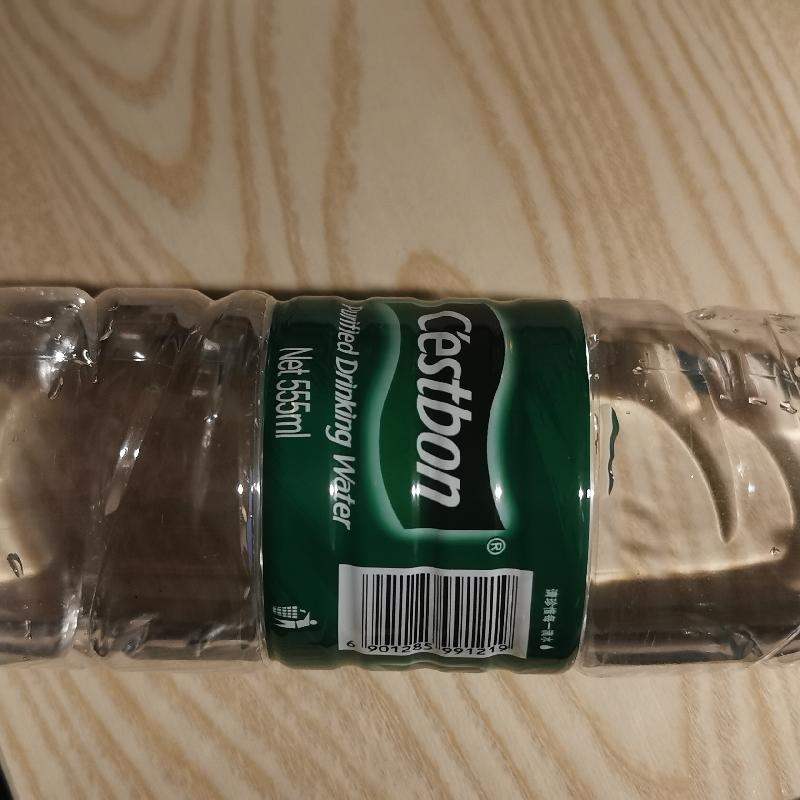bottles: (3, 265, 799, 680)
